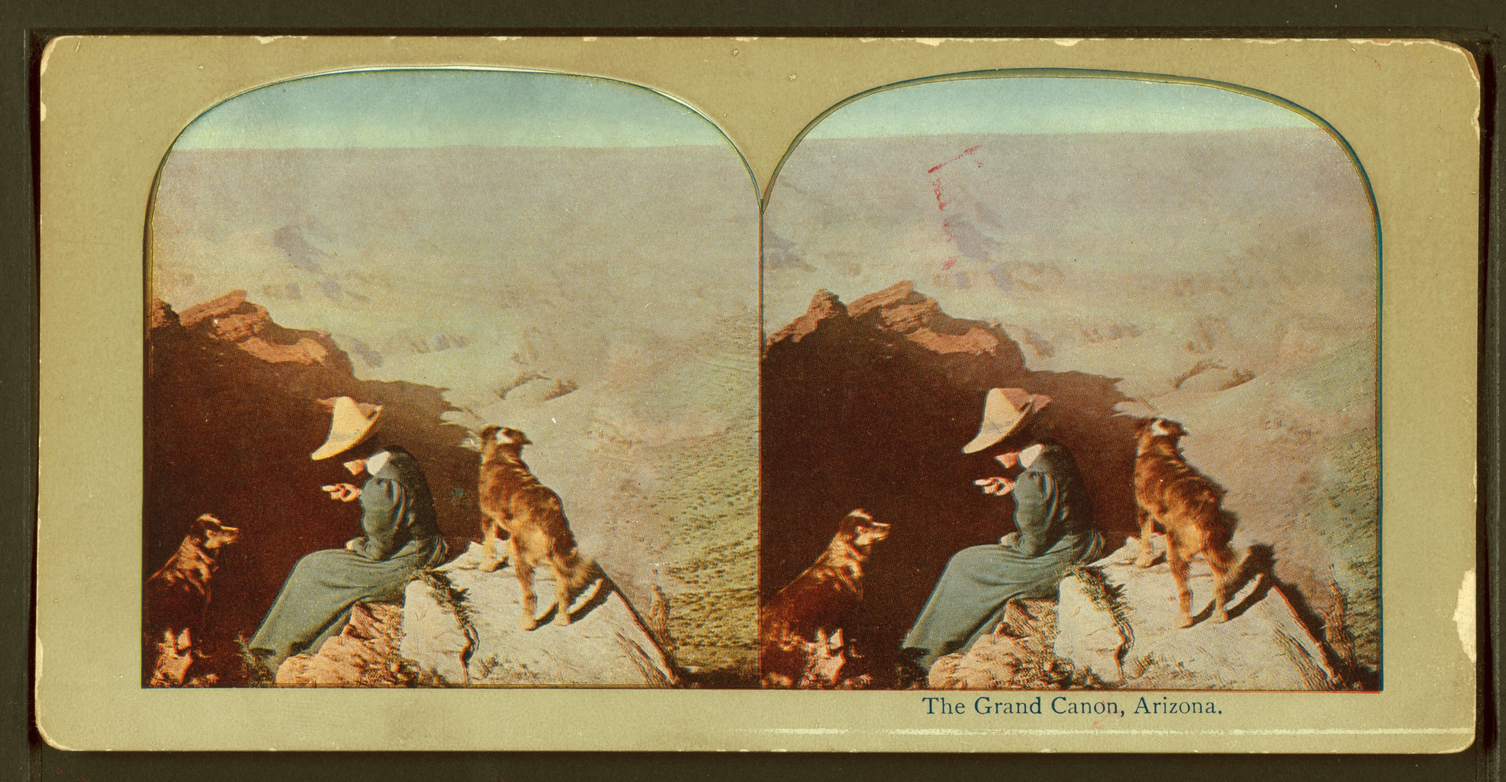half_image: (763, 73, 1381, 691), (144, 68, 760, 687)
